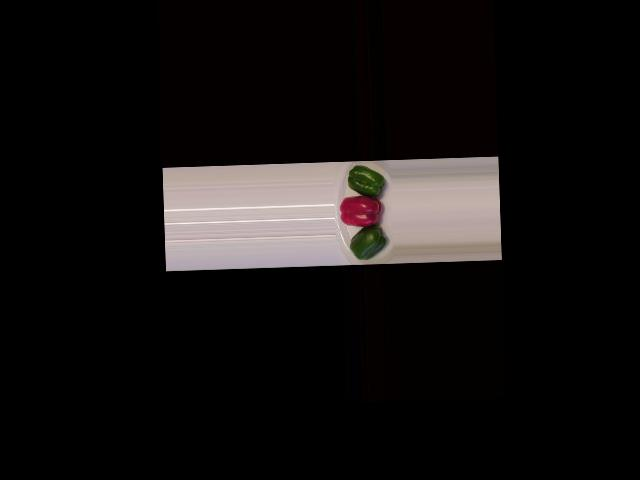bell_pepper: (344, 224, 390, 262)
